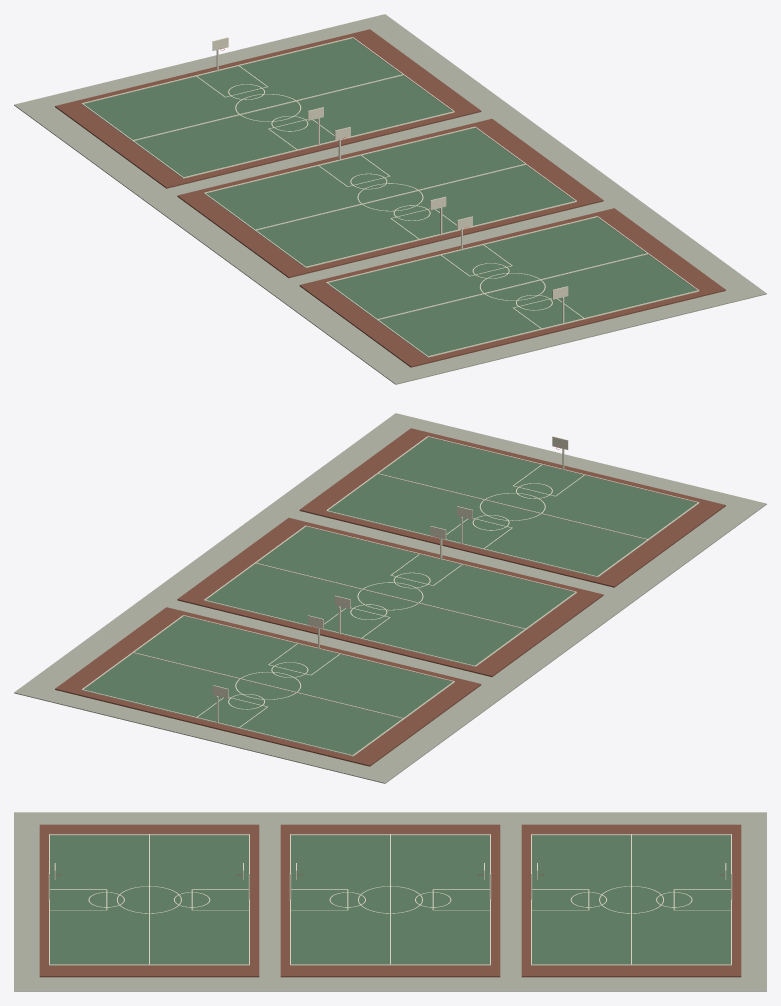
Rendered from basket_C_east_s.glb.
3 renders of one model, top to bottom at view 1: azimuth 30°, elevation 25°; view 2: azimuth 150°, elevation 25°; view 3: azimuth 270°, elevation 25°, orthographic.
Parts seen in each view (by area): view 1: PavedSurround, Court_3_CourtInfield, Court_1_CourtInfield, Court_2_CourtInfield, Court_3_CourtRed, Court_1_CourtRed, Court_2_CourtRed, Court_3_CourtLines, Court_2_CourtLines, Court_1_CourtLines; view 2: PavedSurround, Court_1_CourtInfield, Court_2_CourtInfield, Court_3_CourtInfield, Court_1_CourtRed, Court_3_CourtRed, Court_2_CourtRed, Court_1_CourtLines, Court_2_CourtLines, Court_3_CourtLines; view 3: PavedSurround, Court_1_CourtInfield, Court_3_CourtInfield, Court_2_CourtInfield, Court_2_CourtRed, Court_1_CourtRed, Court_3_CourtRed, Court_1_CourtLines, Court_3_CourtLines, Court_2_CourtLines.
Boxes of the visible parts, x1,y1,x2,y2 form: PavedSurround: (14, 14, 766, 384); Court_3_CourtInfield: (328, 217, 696, 356); Court_1_CourtInfield: (84, 38, 452, 176); Court_2_CourtInfield: (206, 128, 574, 266); Court_3_CourtRed: (299, 208, 725, 367); Court_1_CourtRed: (55, 29, 481, 188); Court_2_CourtRed: (177, 119, 603, 277); Court_3_CourtLines: (326, 216, 699, 357); Court_2_CourtLines: (204, 126, 576, 267); Court_1_CourtLines: (81, 37, 454, 178); PavedSurround: (14, 413, 766, 783); Court_1_CourtInfield: (84, 616, 452, 755); Court_2_CourtInfield: (206, 527, 574, 665); Court_3_CourtInfield: (328, 437, 696, 575); Court_1_CourtRed: (55, 607, 481, 766); Court_3_CourtRed: (299, 428, 725, 587); Court_2_CourtRed: (177, 518, 603, 676); Court_1_CourtLines: (81, 615, 454, 756); Court_2_CourtLines: (204, 525, 576, 666); Court_3_CourtLines: (326, 436, 699, 577); PavedSurround: (14, 812, 766, 991); Court_1_CourtInfield: (532, 835, 730, 964); Court_3_CourtInfield: (50, 835, 248, 964); Court_2_CourtInfield: (291, 835, 489, 964); Court_2_CourtRed: (280, 824, 500, 977); Court_1_CourtRed: (521, 824, 741, 977); Court_3_CourtRed: (39, 824, 259, 977); Court_1_CourtLines: (531, 834, 731, 965); Court_3_CourtLines: (49, 834, 249, 965); Court_2_CourtLines: (290, 834, 490, 965).
Bounding box in the file's own units: 42.81 × 3.97 × 76.25.
